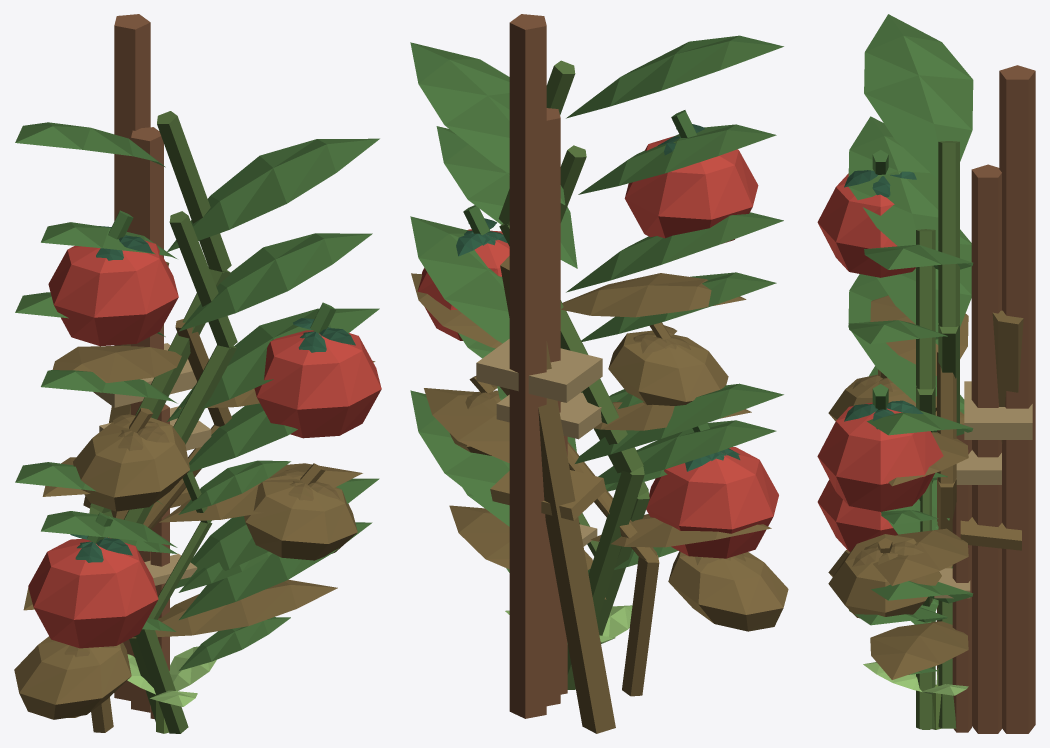
The model's file is summer_tomato.glb.
3 views of the same model, side by side, from view 1: azimuth 30°, elevation 25°; view 2: azimuth 150°, elevation 25°; view 3: azimuth 270°, elevation 25° (orthographic). The views are drawn at different scales.
Parts seen in each view (by area): view 1: stage3, dead, stage2, stage1, stage0; view 2: stage3, dead, stage2, stage1, stage0; view 3: stage3, stage2, dead, stage1, stage0.
Boxes of the visible parts, <box> form: stage3: <box>15,14,381,721</box>; dead: <box>14,262,375,732</box>; stage2: <box>41,127,372,733</box>; stage1: <box>109,404,290,718</box>; stage0: <box>127,646,216,733</box>; stage3: <box>410,14,783,718</box>; dead: <box>411,256,788,733</box>; stage2: <box>436,108,776,706</box>; stage1: <box>497,386,677,694</box>; stage0: <box>505,605,632,643</box>; stage3: <box>817,14,1035,733</box>; stage2: <box>848,116,1001,733</box>; dead: <box>828,295,1023,679</box>; stage1: <box>881,424,971,732</box>; stage0: <box>863,662,968,729</box>.
Bounding box in the file's own units: 0.54 × 0.9545 × 0.287.
